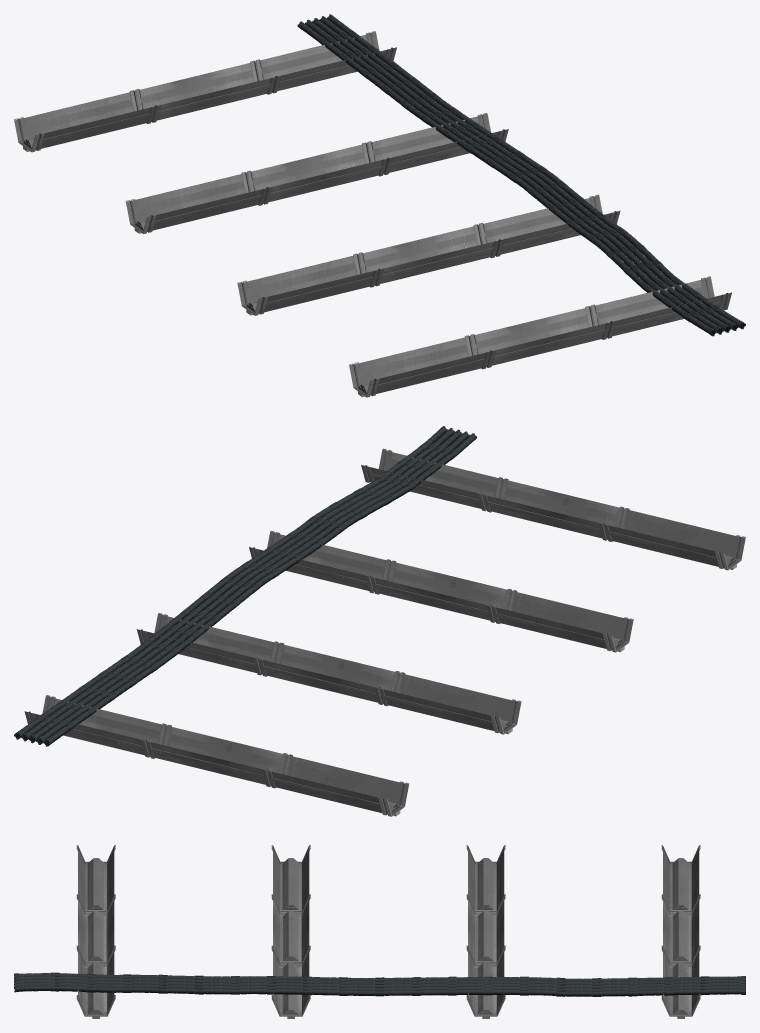
File: RoofObjects.fbx
3 views of the same model, one above another, from view 1: azimuth 30°, elevation 25°; view 2: azimuth 150°, elevation 25°; view 3: azimuth 270°, elevation 25° (orthographic). The views are drawn at different scales.
Visible parts, largest first — view 1: Roof_Ligths, Roof_Cable__1_; view 2: Roof_Ligths, Roof_Cable__1_; view 3: Roof_Ligths, Roof_Cable__1_.
Part boxes in pixels (x1,y1,x2,y2): Roof_Ligths: (14,31,731,397); Roof_Cable__1_: (297,14,745,336); Roof_Ligths: (24,448,745,816); Roof_Cable__1_: (14,426,476,746); Roof_Ligths: (76,845,700,1018); Roof_Cable__1_: (14,972,745,996).
Size of the model in its own units: 5000 by 338 by 10046.
Materials: 3 (3 with a texture image).
